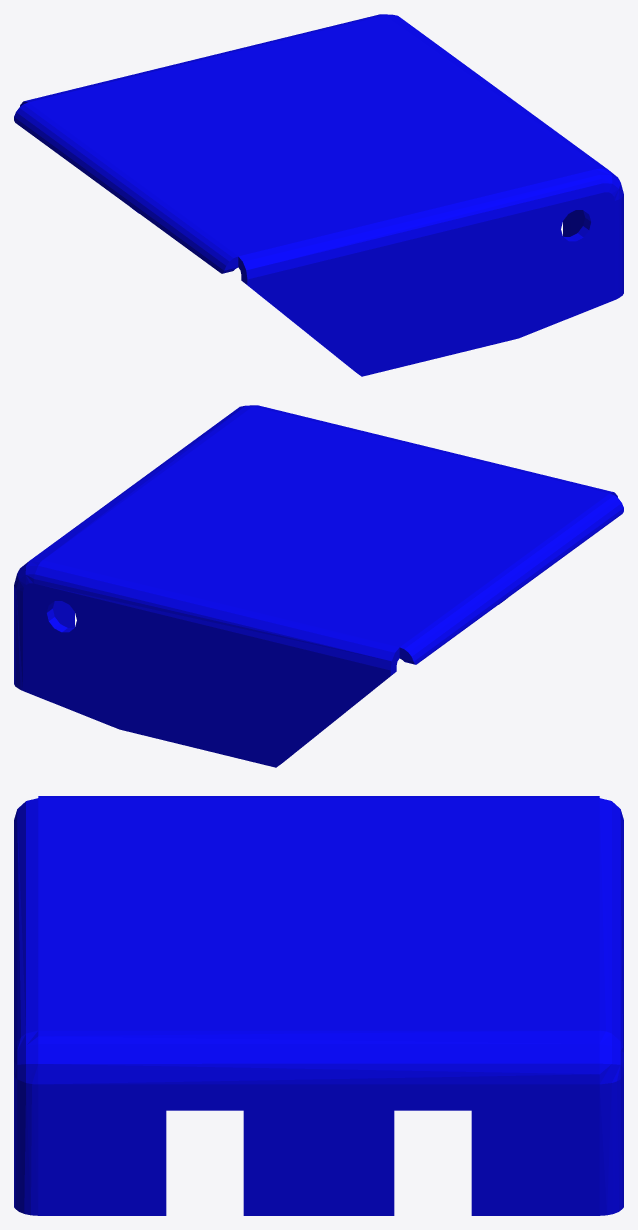
The model's file is paddle_latch_handle.obj.
3 views of the same model, one above another, from view 1: azimuth 30°, elevation 25°; view 2: azimuth 150°, elevation 25°; view 3: azimuth 270°, elevation 25° (orthographic). The views are drawn at different scales.
Bounding box in the file's own units: 0.0462 × 0.0157 × 0.0459.
